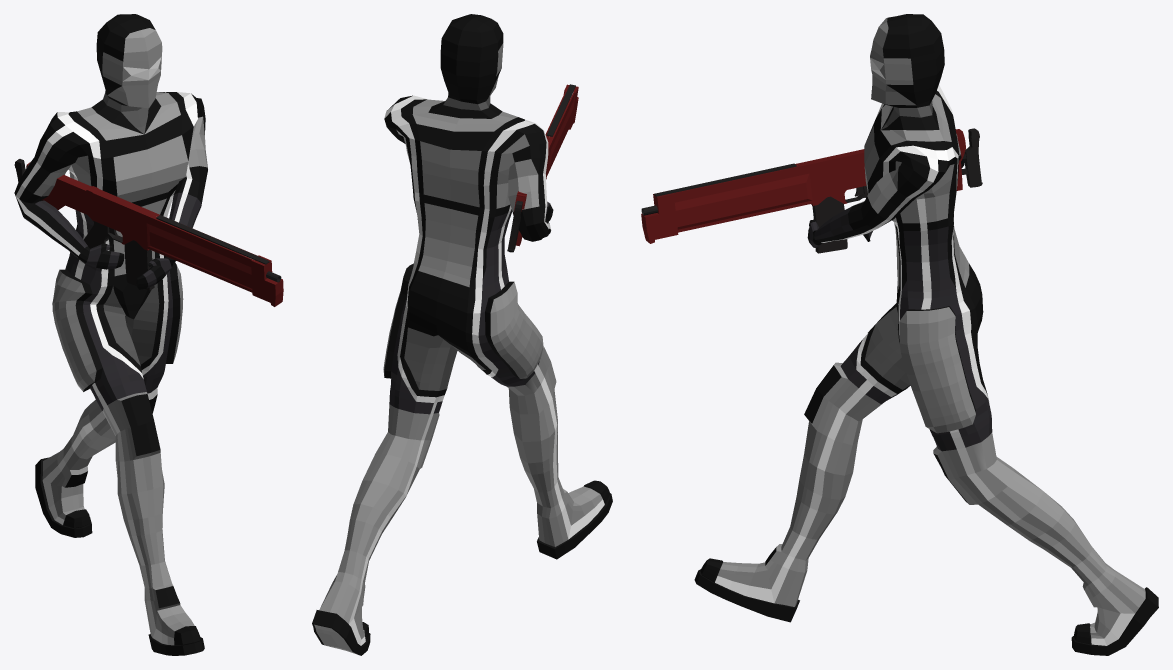
The model's file is TKR3.obj.
The picture shows the model from 3 angles, left to right: view 1: azimuth 30°, elevation 25°; view 2: azimuth 150°, elevation 25°; view 3: azimuth 270°, elevation 25°; orthographic projection. The views are drawn at different scales.
Parts seen in each view (by area): view 1: metarig_object_metarig_mesh, Cube.001; view 2: metarig_object_metarig_mesh, Cube.001; view 3: metarig_object_metarig_mesh, Cube.001.
Boxes of the visible parts, <box> form: metarig_object_metarig_mesh: <box>14,14,207,655</box>; Cube.001: <box>14,159,283,306</box>; metarig_object_metarig_mesh: <box>312,14,612,655</box>; Cube.001: <box>507,84,578,252</box>; metarig_object_metarig_mesh: <box>694,14,1158,655</box>; Cube.001: <box>641,128,982,253</box>.
Bounding box in the file's own units: 0.5078 × 1.65 × 1.26.
Materials: 2 (2 with a texture image).
